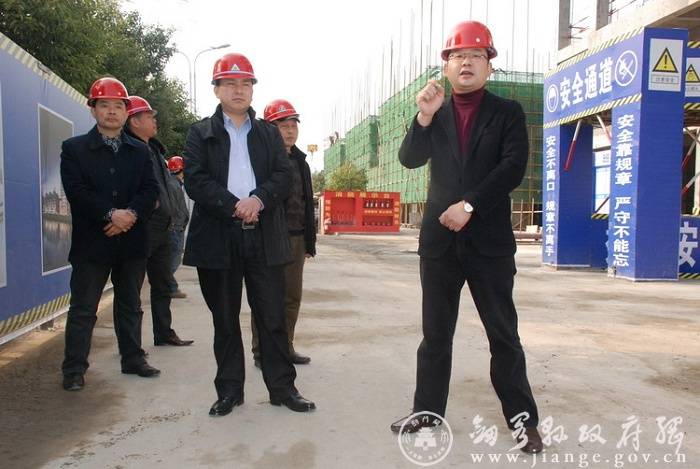red: (438, 24, 497, 95), (209, 53, 257, 116), (87, 74, 130, 133), (263, 97, 301, 150), (125, 94, 157, 138), (167, 155, 184, 177)
